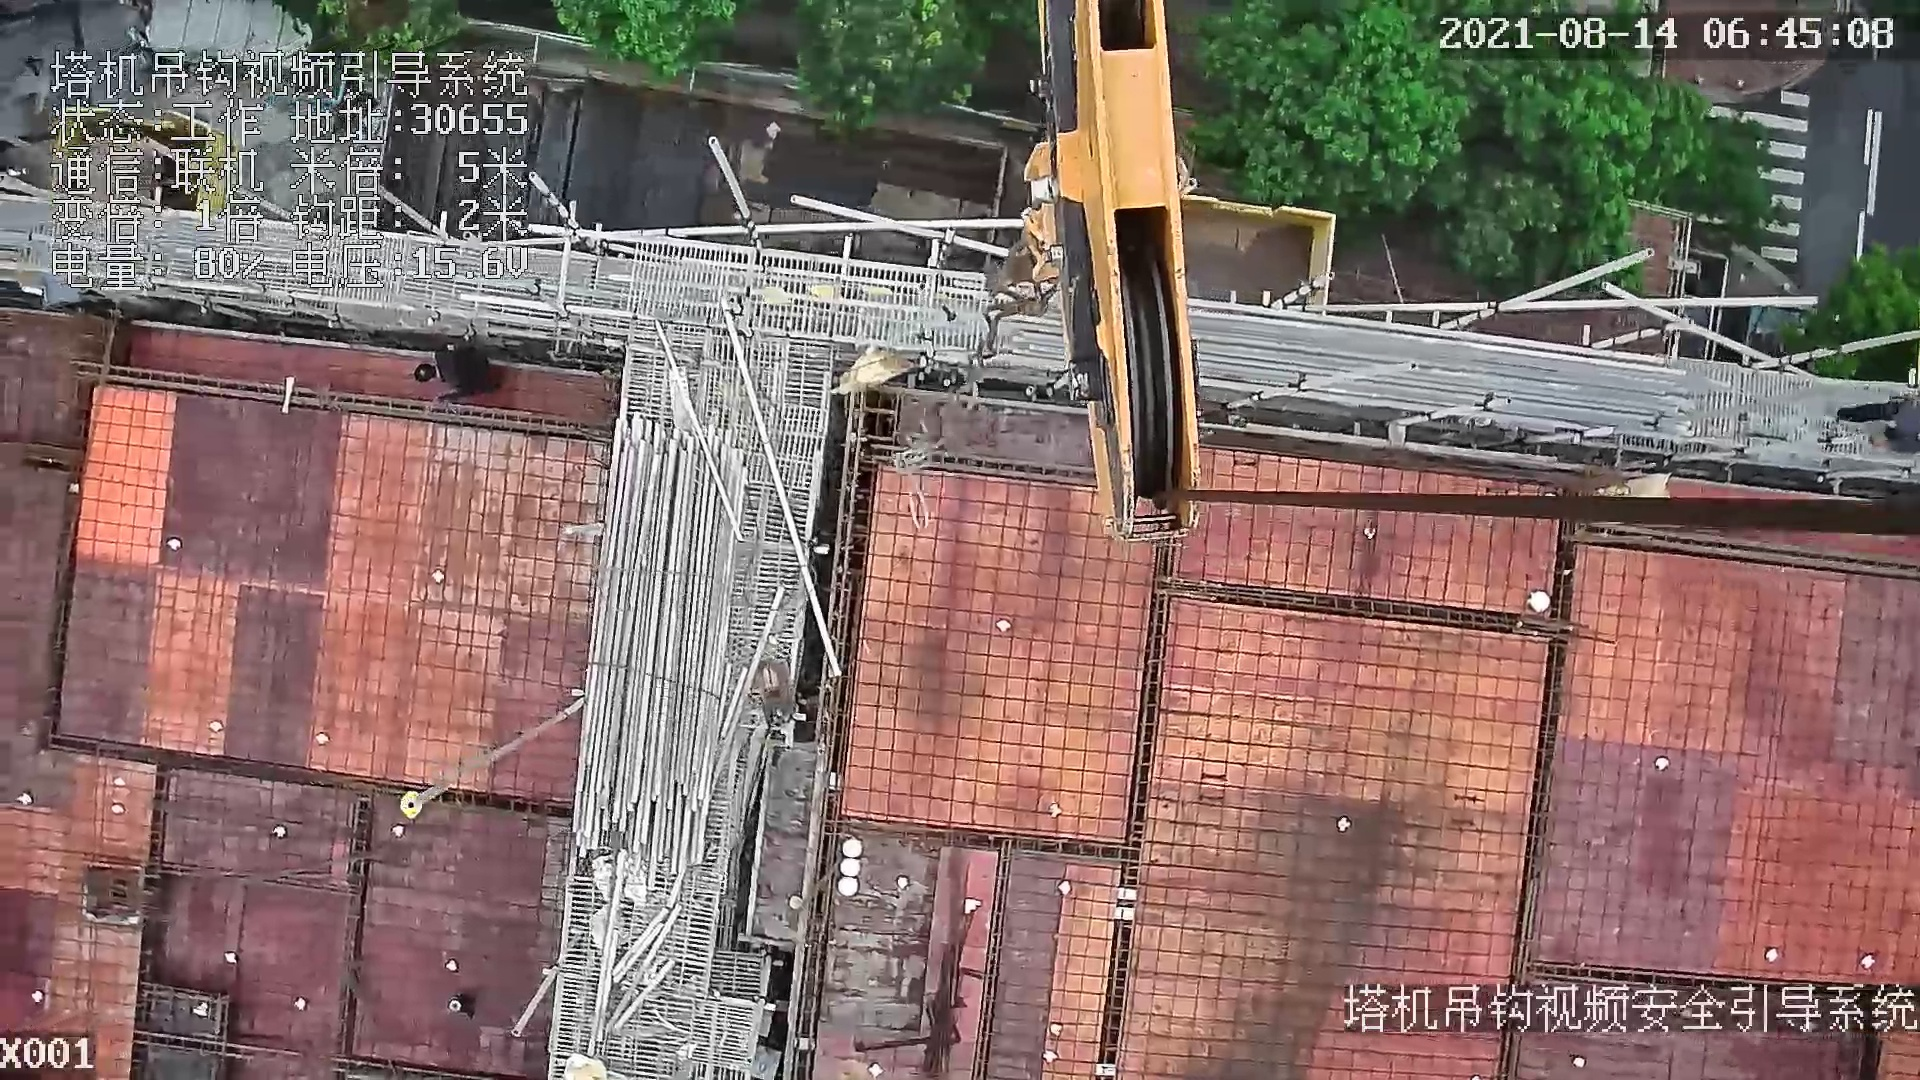helmet: (397, 789, 424, 820)
hook: (978, 1, 1221, 568)
person: (410, 339, 508, 408)
